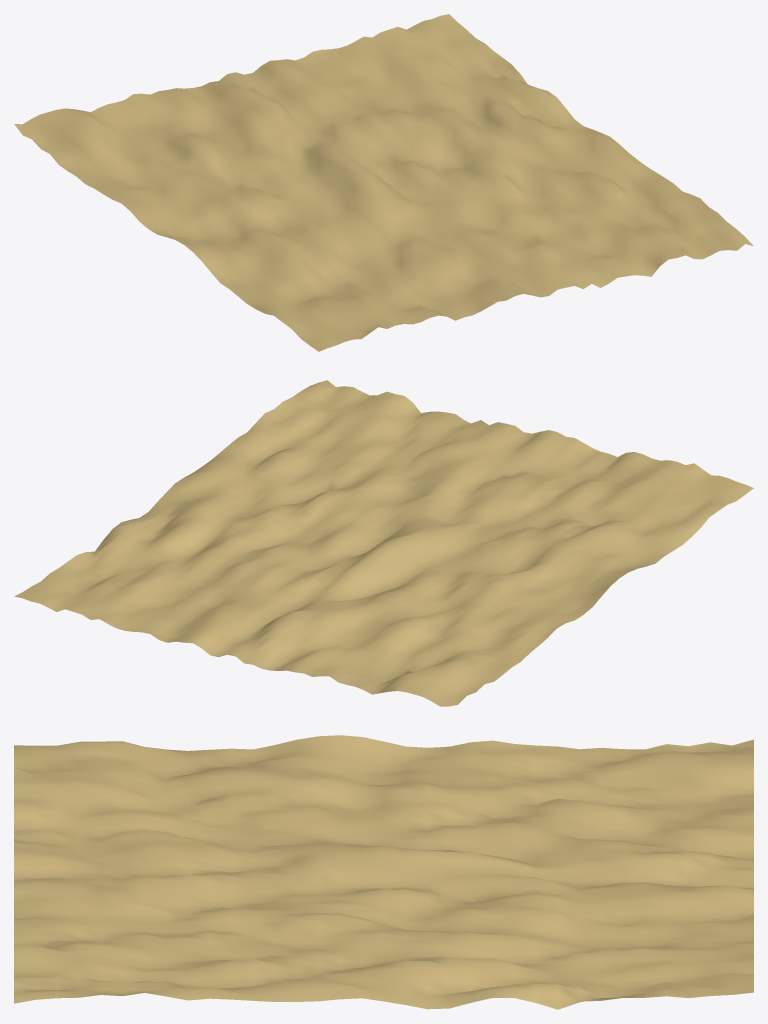
Rendered from Sand.fbx.
3 views of the same model, one above another, from view 1: azimuth 30°, elevation 25°; view 2: azimuth 150°, elevation 25°; view 3: azimuth 270°, elevation 25° (orthographic). The views are drawn at different scales.
Visible parts, largest first — view 1: Plane; view 2: Plane; view 3: Plane.
Boxes of the visible parts, left/top/right/bottom form: Plane: left=14, top=14, right=753, bottom=351; Plane: left=14, top=380, right=753, bottom=706; Plane: left=14, top=735, right=753, bottom=1009.
Bounding box in the file's own units: 1829 × 75.57 × 2220.
